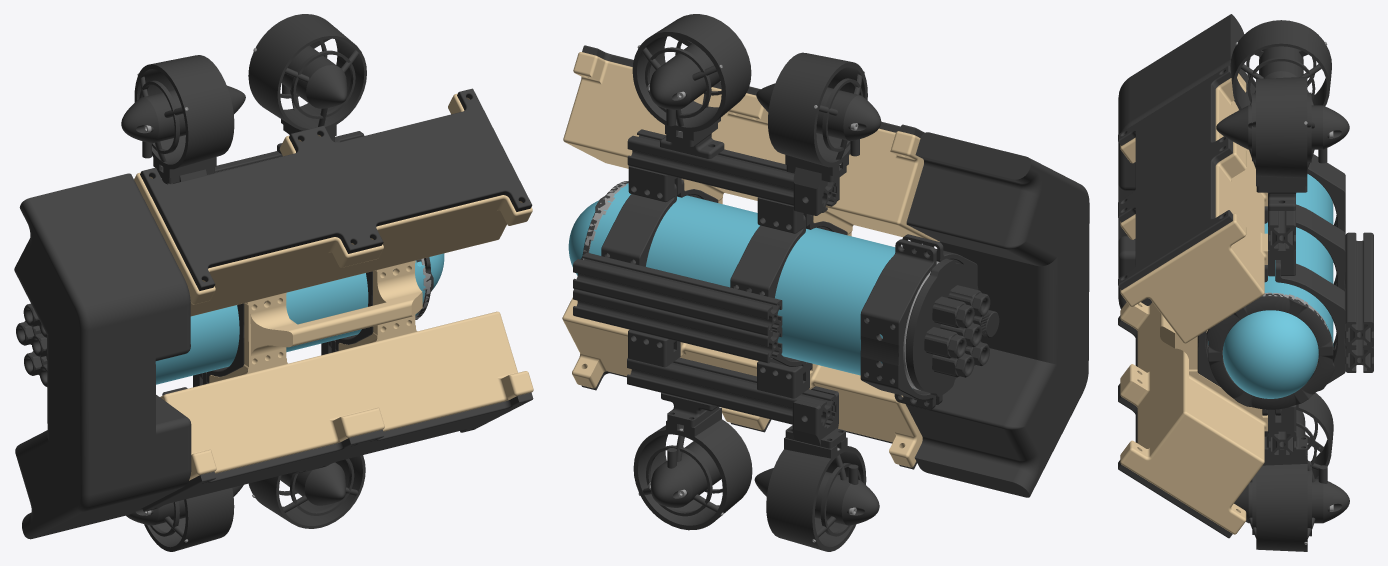
File: ROV_v4_colours.fbx
3 views of the same model, side by side, from view 1: azimuth 30°, elevation 25°; view 2: azimuth 150°, elevation 25°; view 3: azimuth 270°, elevation 25° (orthographic). The views are drawn at different scales.
Parts seen in each view (by area): view 1: Body1 (×13); view 2: Body1 (×27); view 3: Body1 (×24).
Part boxes in pixels (left/top/right/bottom): Body1 (×13): left=14, top=14, right=533, bottom=551; Body1 (×27): left=562, top=14, right=1089, bottom=551; Body1 (×24): left=1118, top=14, right=1373, bottom=551.
Bounding box in the file's own units: 350 × 365 × 182.
